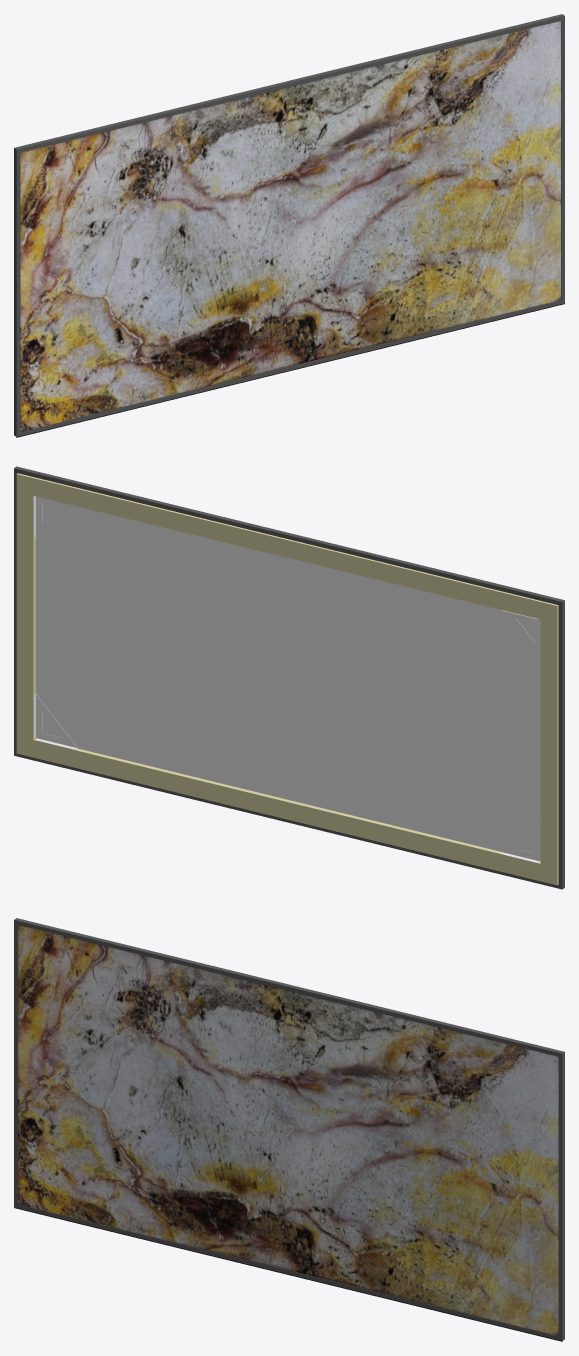
The model's file is Rock_sheet_PINK.glb.
3 renders of one model, top to bottom at view 1: azimuth 30°, elevation 25°; view 2: azimuth 150°, elevation 25°; view 3: azimuth 330°, elevation 25°, orthographic.
Visible parts, largest first — view 1: Group17, Group7, Group5, Group8, Group6; view 2: Group13, Group2, Group7, Group8, Group5, Group10, Group6, Group9, Group11, Group12; view 3: Group17, Group7, Group5, Group6, Group8.
Boxes of the visible parts, <box> form: Group17: <box>16,21,564,437</box>; Group7: <box>14,14,564,152</box>; Group5: <box>17,300,564,436</box>; Group8: <box>14,148,20,436</box>; Group6: <box>561,16,564,302</box>; Group13: <box>36,503,540,853</box>; Group2: <box>16,473,558,885</box>; Group7: <box>14,466,564,604</box>; Group8: <box>558,600,564,889</box>; Group5: <box>14,753,561,889</box>; Group10: <box>33,694,77,749</box>; Group6: <box>14,469,17,755</box>; Group9: <box>33,496,75,538</box>; Group11: <box>500,820,540,862</box>; Group12: <box>501,610,540,660</box>; Group17: <box>14,925,562,1341</box>; Group7: <box>14,918,564,1056</box>; Group5: <box>14,1204,561,1340</box>; Group6: <box>558,1052,564,1340</box>; Group8: <box>14,920,17,1206</box>.
Bounding box in the file's own units: 2445 × 1228 × 29.
Materials: 11 (1 with a texture image).
